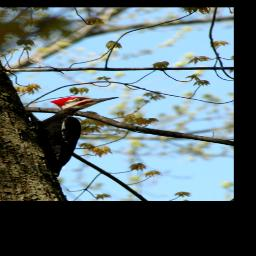Woodpecker: (27, 95, 125, 178)
